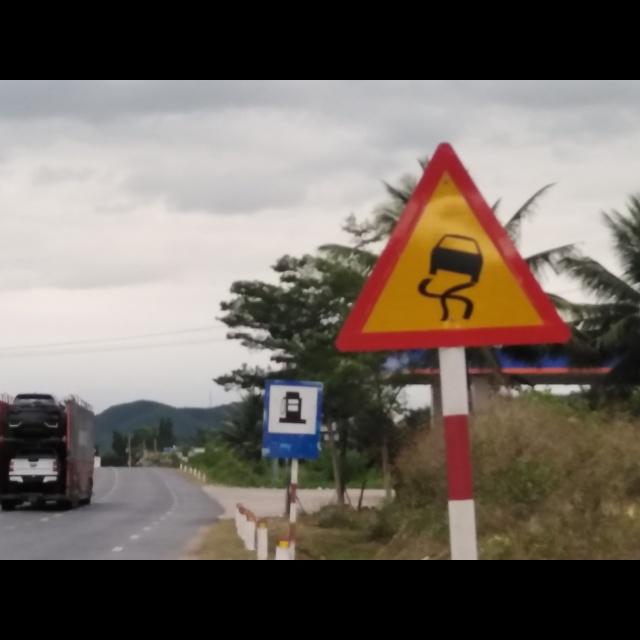Đường trơn trượt: (333, 140, 580, 355)
